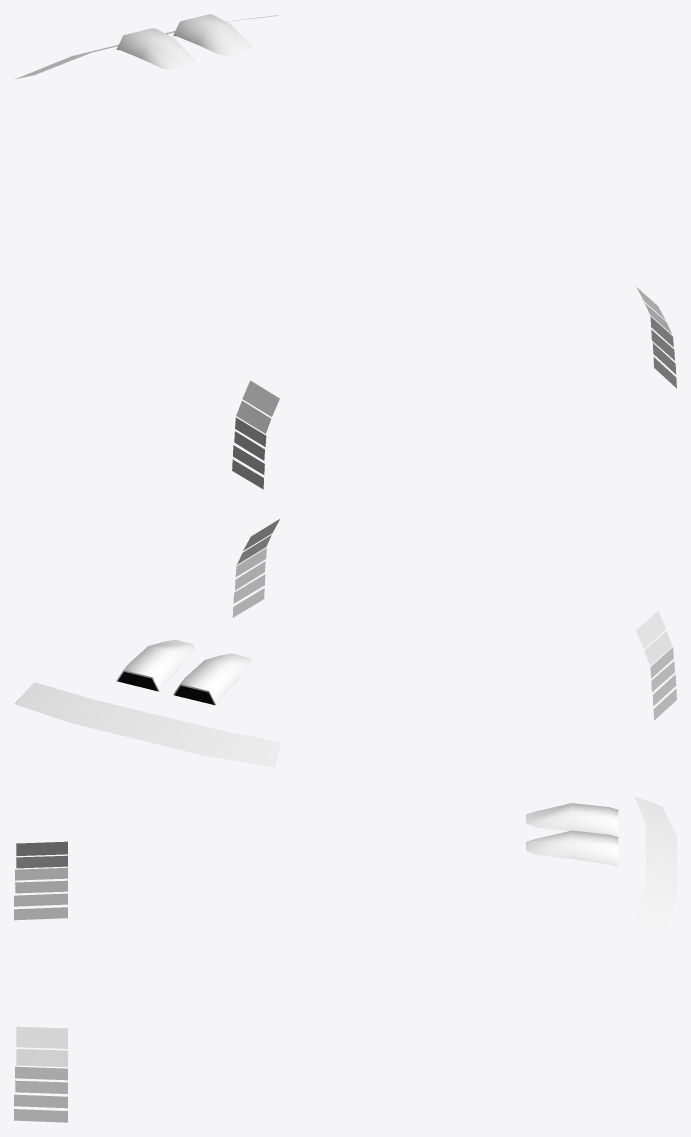
3 renders of one model, top to bottom at view 1: azimuth 30°, elevation 25°; view 2: azimuth 150°, elevation 25°; view 3: azimuth 270°, elevation 25°, orthographic.
Parts seen in each view (by area): view 1: rf_c_st; view 2: rf_c_st; view 3: rf_c_st.
Part boxes in pixels (left/top/right/bottom): rf_c_st: left=15, top=14, right=676, bottom=489; rf_c_st: left=14, top=519, right=676, bottom=767; rf_c_st: left=14, top=796, right=676, bottom=1122.
Bounding box in the file's own units: 2.12 × 0.9566 × 2.91.
3 materials, 3 textured.
